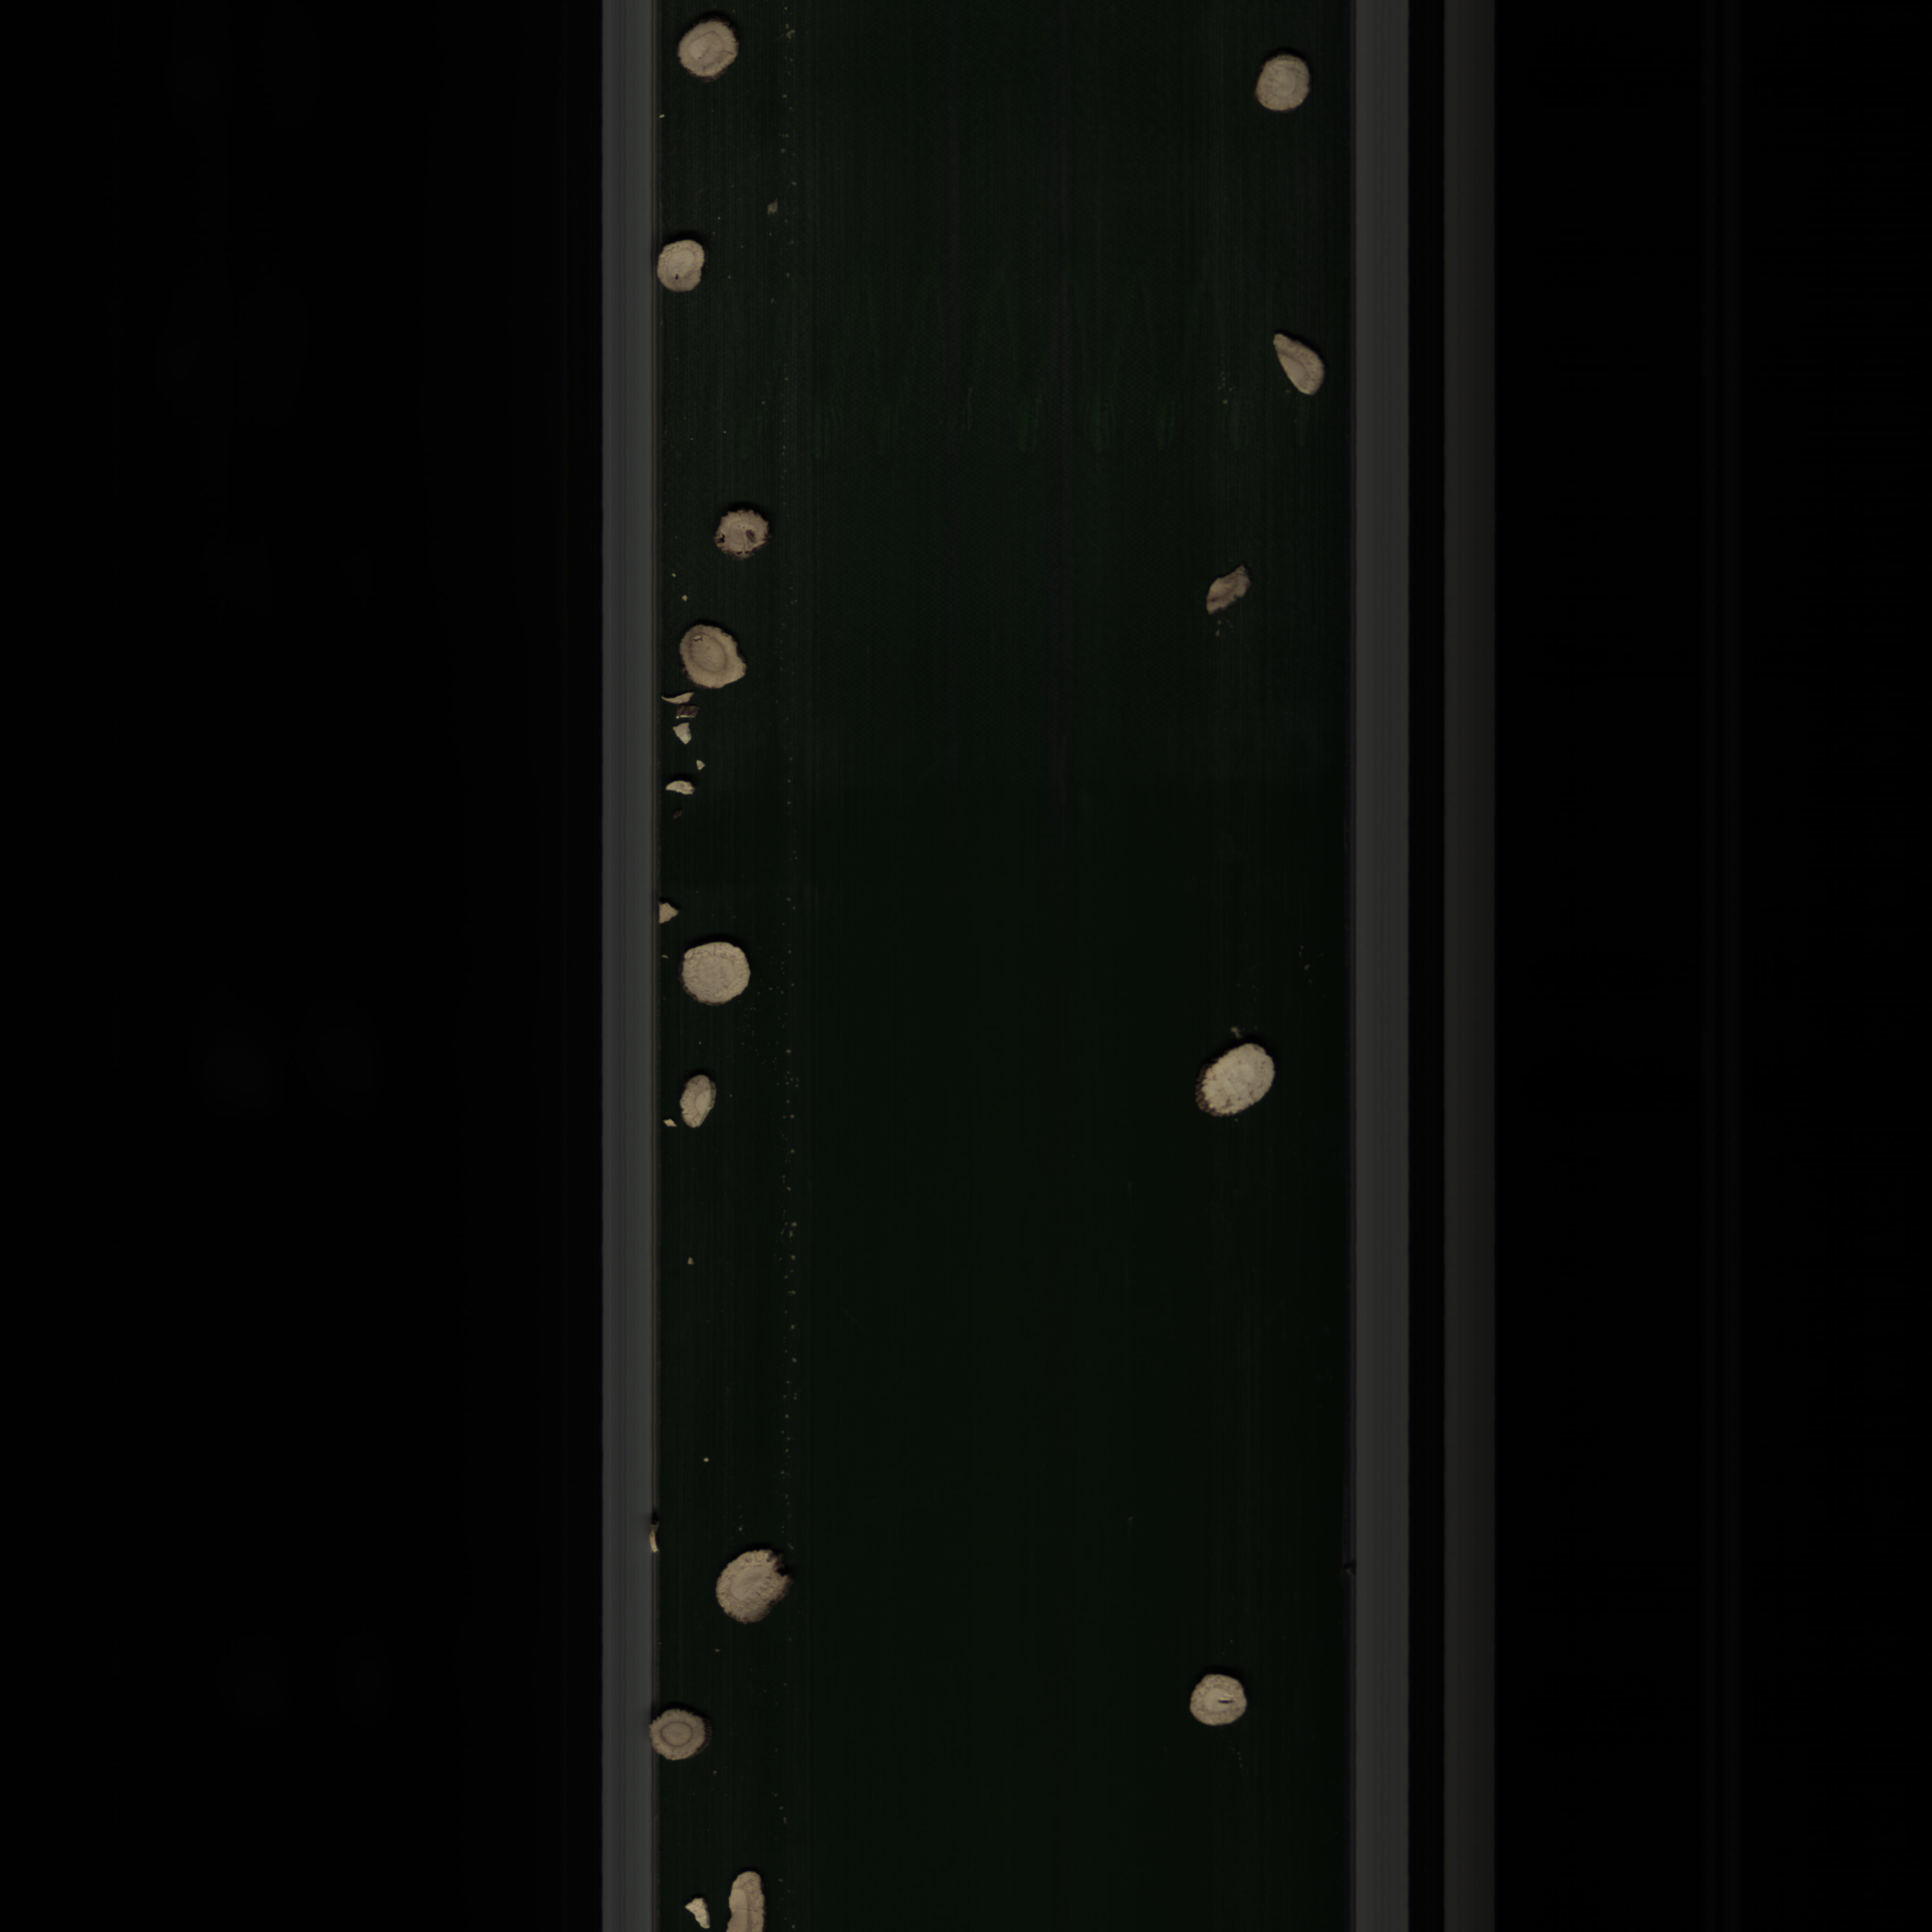bark: (1196, 559, 1265, 621)
debris: (1258, 326, 1338, 402), (706, 1859, 782, 1932), (674, 1069, 727, 1131)
hole: (1185, 1667, 1256, 1732)
moldy: (702, 504, 791, 566)
